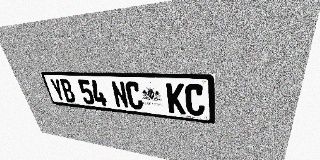4: (89, 80, 108, 106)
5: (77, 79, 96, 105)
B: (59, 79, 77, 103)
C: (185, 84, 205, 117), (124, 81, 144, 110)
K: (166, 83, 186, 115)
N: (110, 81, 129, 109)
Y: (49, 78, 67, 102)
